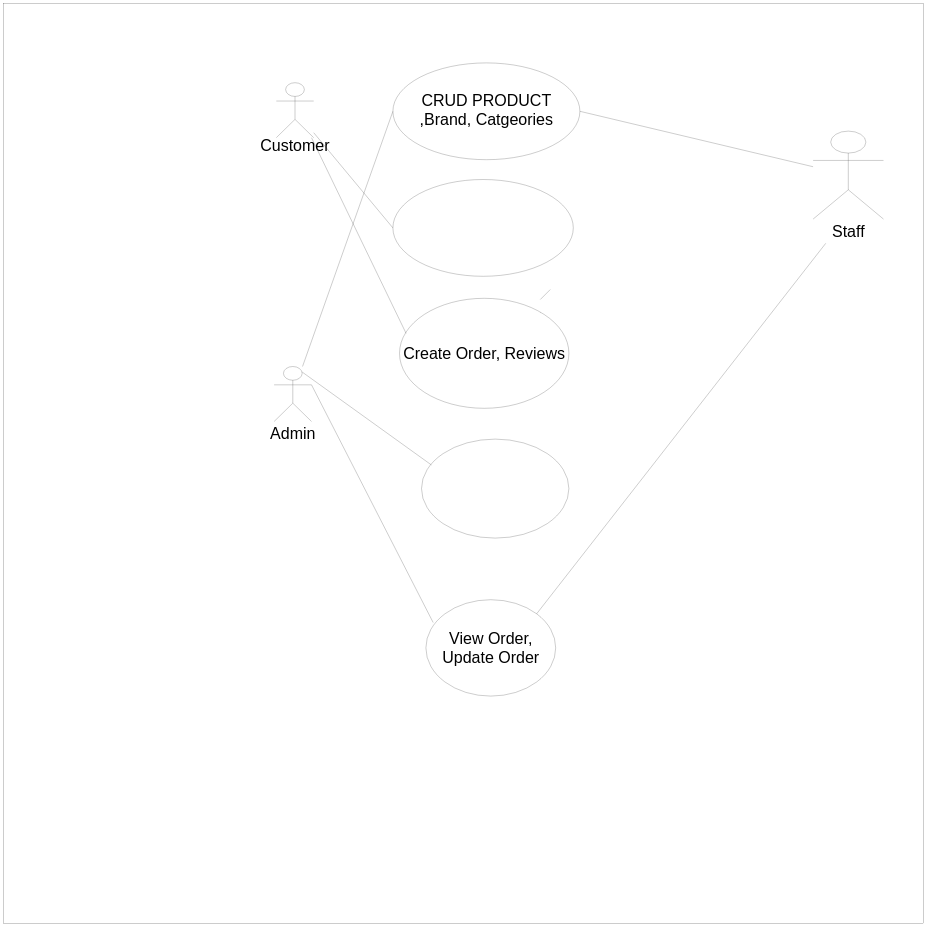
The diagram is 927 pixels wide and 927 high, and some of its shapes have lost their labels. The centre of each missing label's shape, as x and y in pixels:
CRUD STAFF: [495,488]
View Product, Category, Brand, ProducttothatCtaegory: [483,227]
